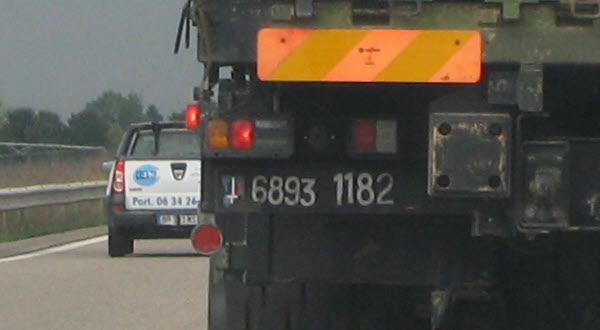license_plate: (213, 167, 404, 213)
